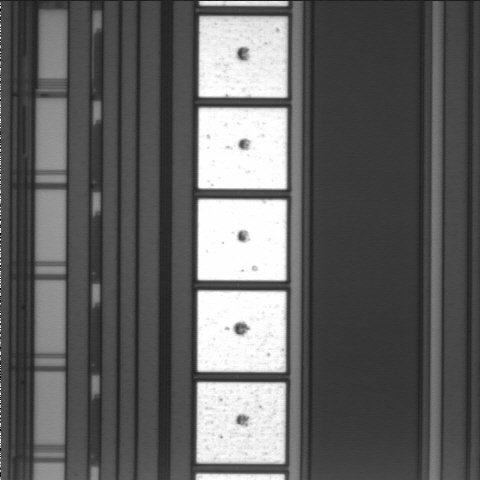pad: (198, 199, 287, 281), (197, 382, 286, 464), (199, 16, 287, 98), (198, 108, 287, 189), (197, 291, 286, 372)
